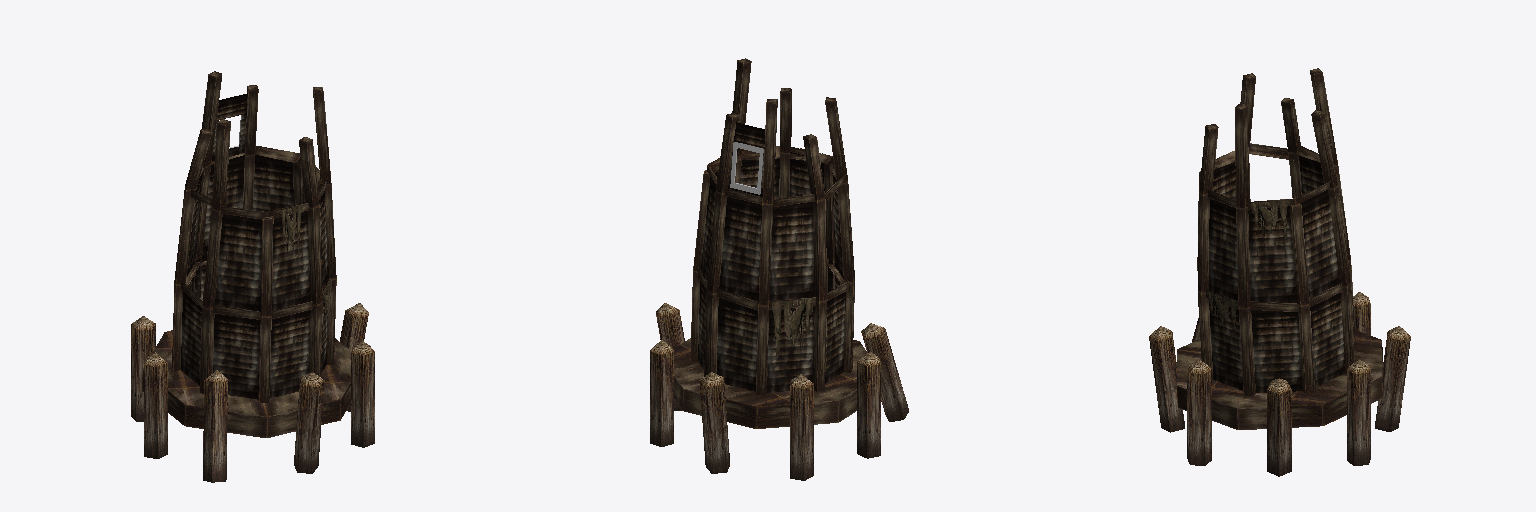
3 views of the same model, side by side, from view 1: azimuth 30°, elevation 25°; view 2: azimuth 150°, elevation 25°; view 3: azimuth 270°, elevation 25° (orthographic).
Visible parts, largest first — view 1: WestFallGrainSiloDestroyed01; view 2: WestFallGrainSiloDestroyed01; view 3: WestFallGrainSiloDestroyed01.
Part boxes in pixels (bbox=[...]): WestFallGrainSiloDestroyed01: bbox=[131, 71, 374, 482]; WestFallGrainSiloDestroyed01: bbox=[650, 58, 908, 480]; WestFallGrainSiloDestroyed01: bbox=[1149, 68, 1410, 476].
Bounding box in the file's own units: 13.91 × 20.54 × 14.
5 materials, 4 textured.